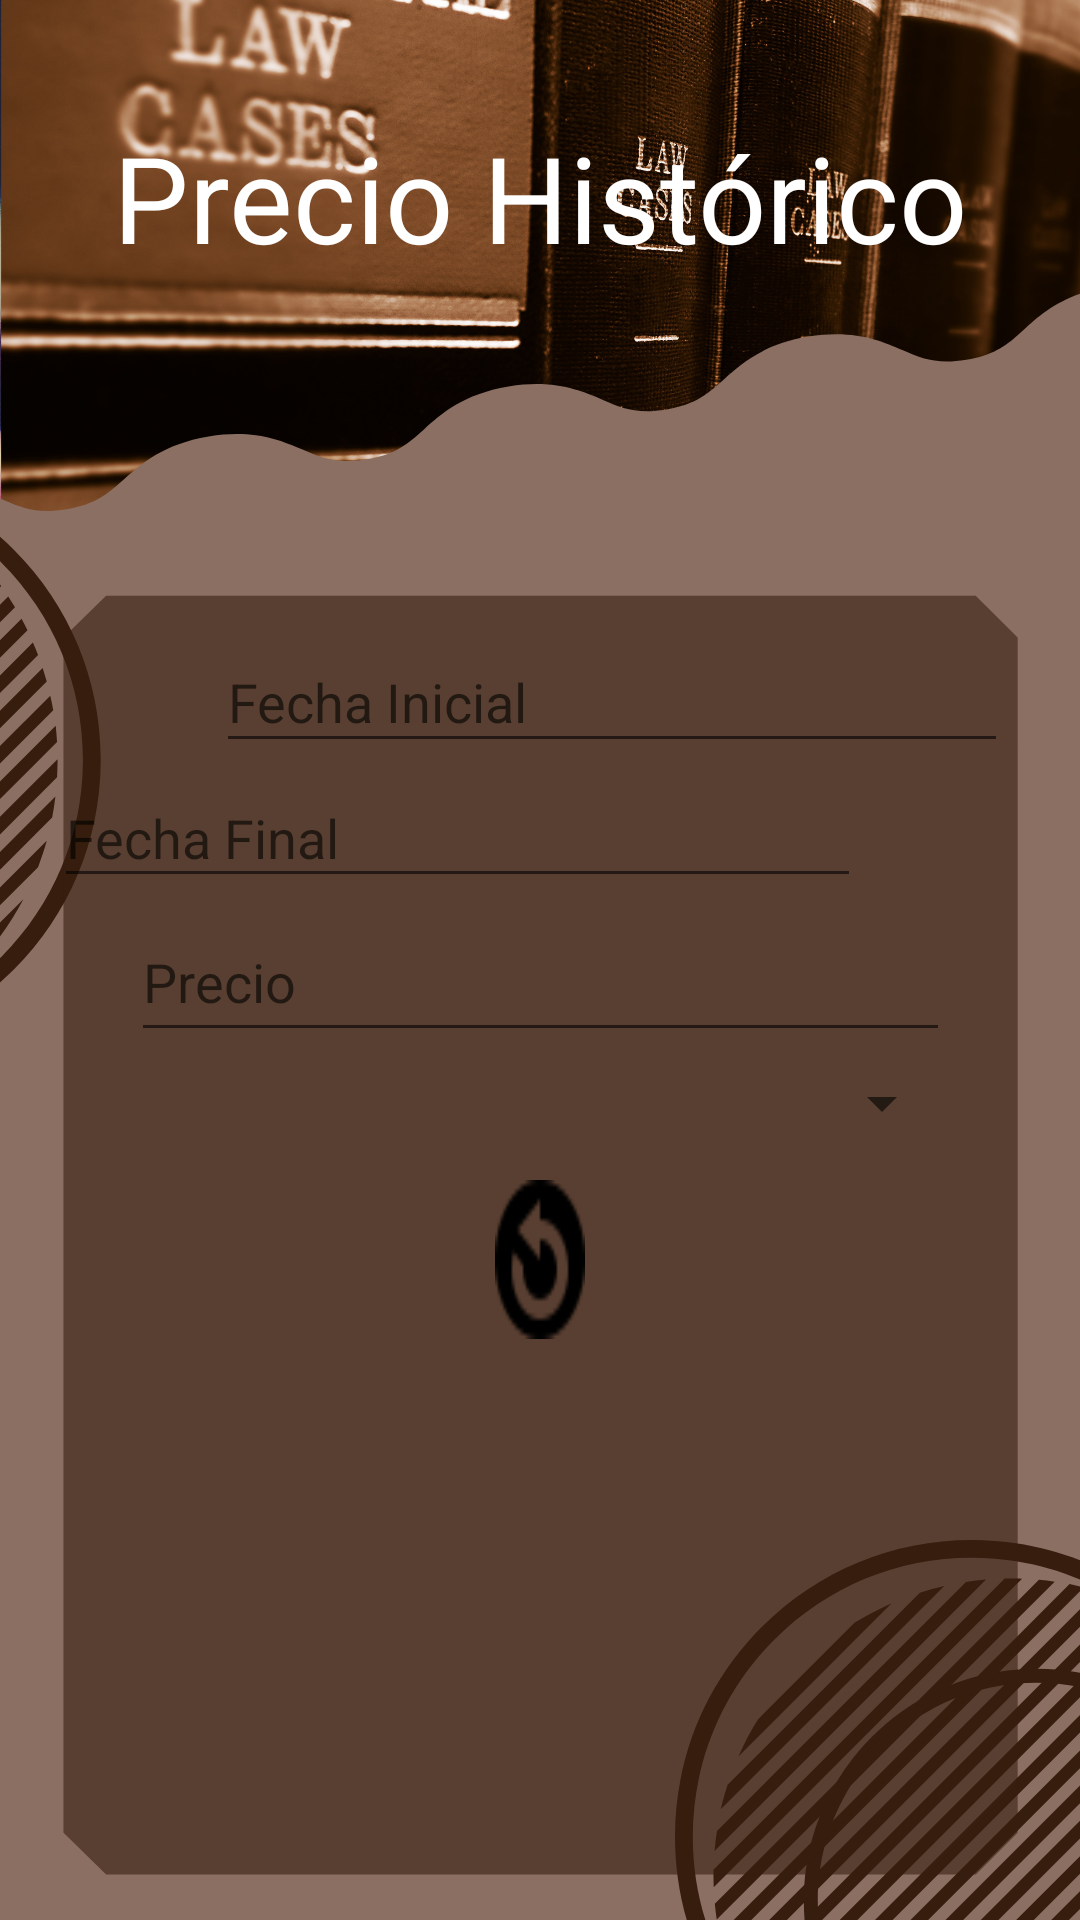

Icons on this 1080px×1920px Android screen, each with its box as (x1, y1, x2, y2):
actualizar: (495, 1180, 585, 1339)
